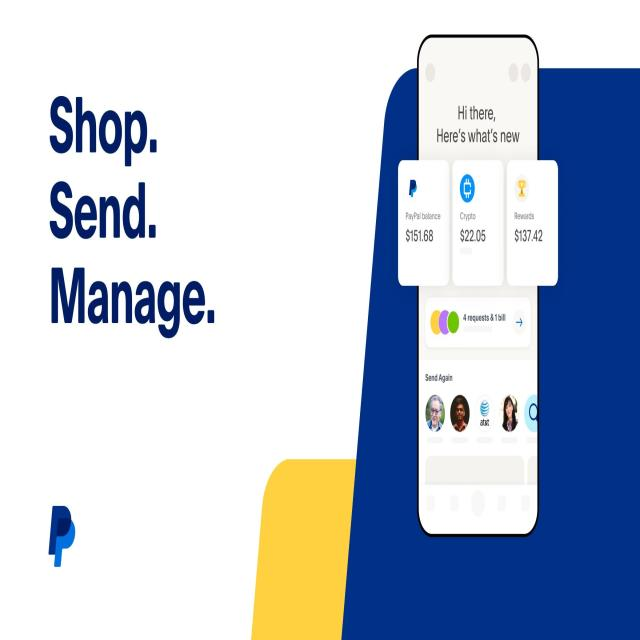paypal: (49, 506, 75, 567)
